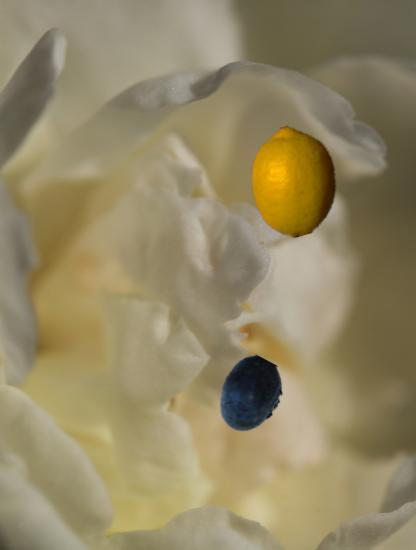Blueberry: (212, 357, 289, 434)
Lemon: (239, 126, 349, 236)
